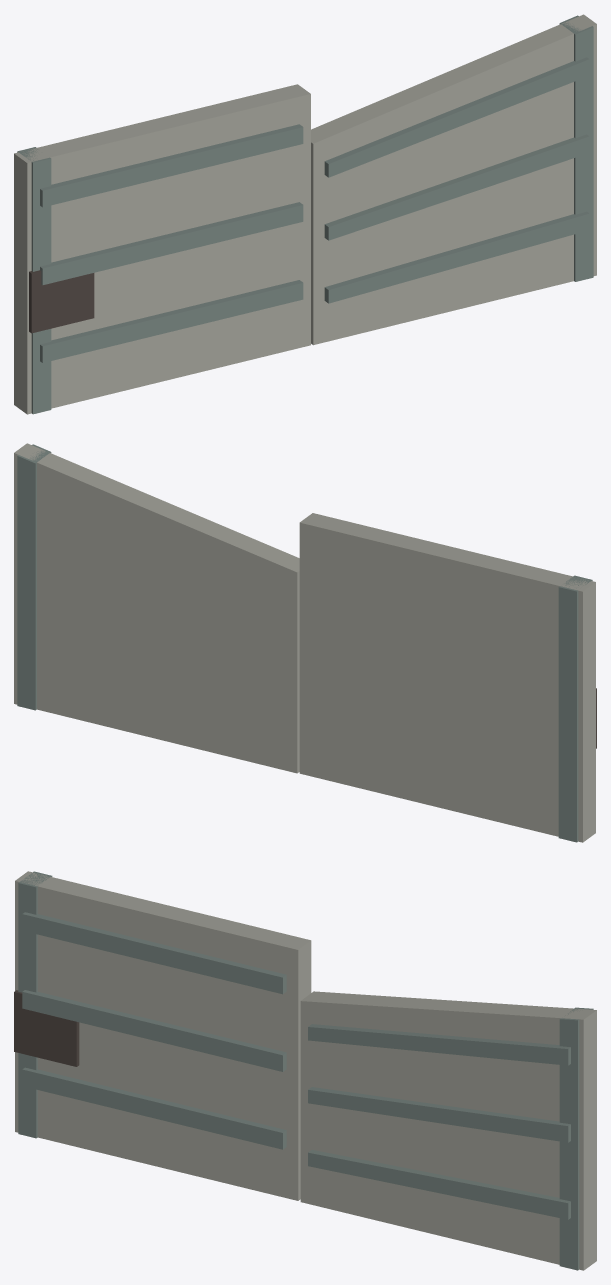
The model's file is SM_PuertaVia_v4_Blindada_e1_Danado_LOD1.fbx.
The picture shows the model from 3 angles, top to bottom: view 1: azimuth 30°, elevation 25°; view 2: azimuth 150°, elevation 25°; view 3: azimuth 330°, elevation 25°; orthographic projection.
Visible parts, largest first — view 1: Hoja_O, Hoja_E; view 2: Hoja_O, Hoja_E; view 3: Hoja_O, Hoja_E.
Part boxes in pixels (box(x1,y1,x2,y2)): Hoja_O: box(14, 84, 310, 414); Hoja_E: box(311, 14, 596, 345); Hoja_O: box(299, 513, 596, 842); Hoja_E: box(14, 443, 299, 773); Hoja_O: box(14, 871, 311, 1200); Hoja_E: box(300, 991, 596, 1270).
Size of what is drawn, in the model's own units: 4.98 by 2.1 by 0.28.
